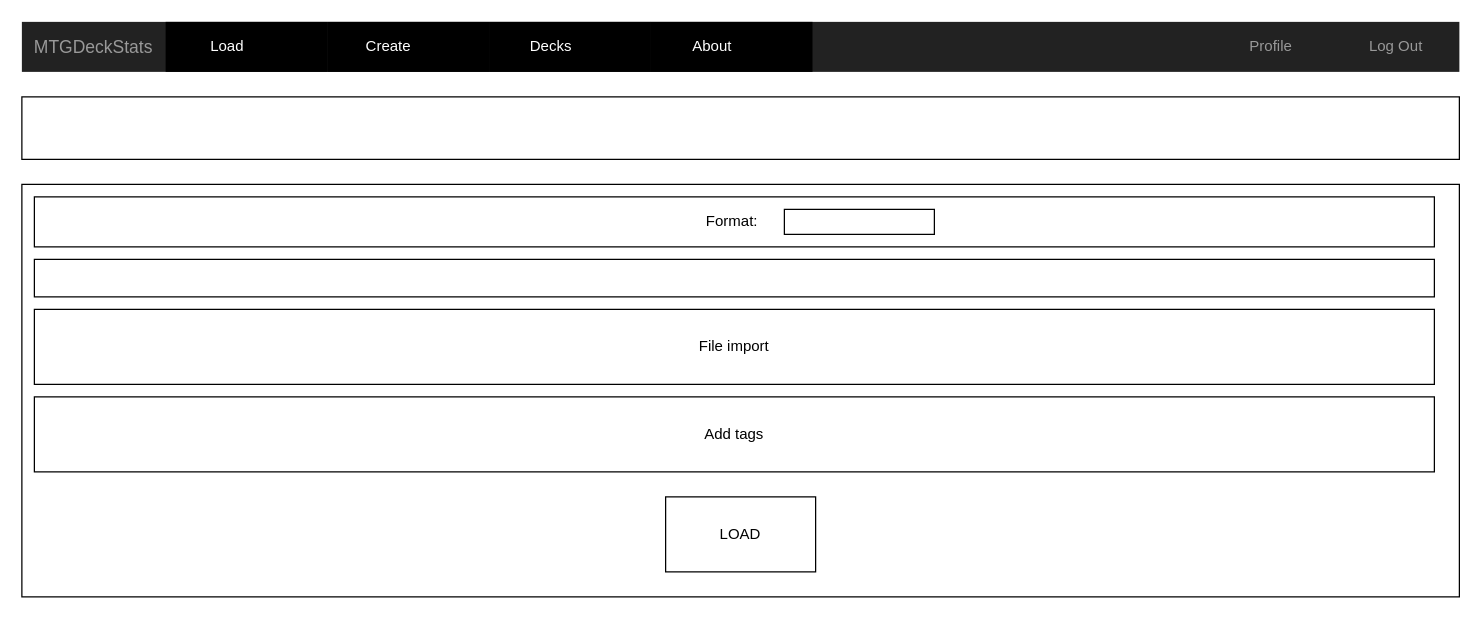
Some shapes in this 1481 by 619 pixel diagram are drawn without their labels. The shapes that lost their labels are listed below. From the top down, each one's centre as x and y in pixels, then its label:
[740,127]: Load Deck
[733,277]: If format is commander add "Commander" input field here
